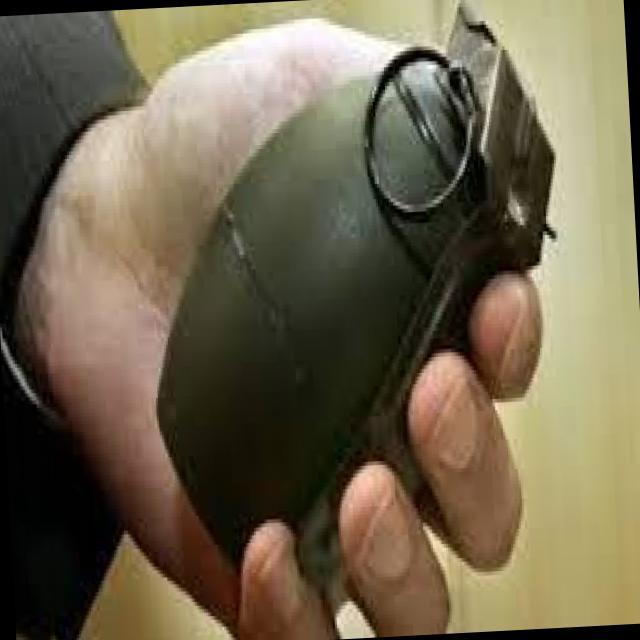grenade: (133, 22, 556, 637)
